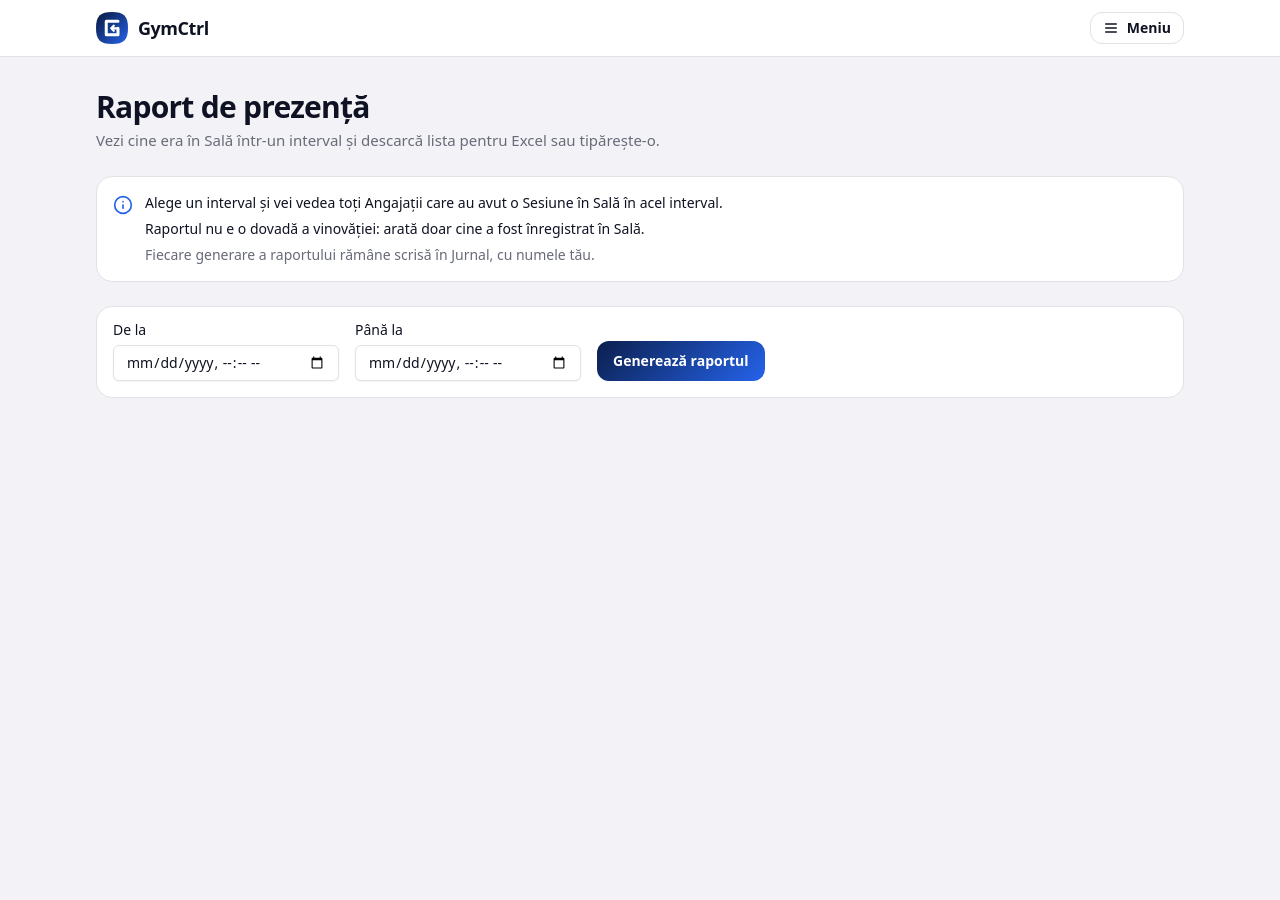
Test: ecranul Rapoarte › afișează un mesaj pentru interval fără Sesiuni
Type "2026-01-05T10:00" into the field labelled "De la". click: (226, 362)
box: [113, 344, 339, 380]
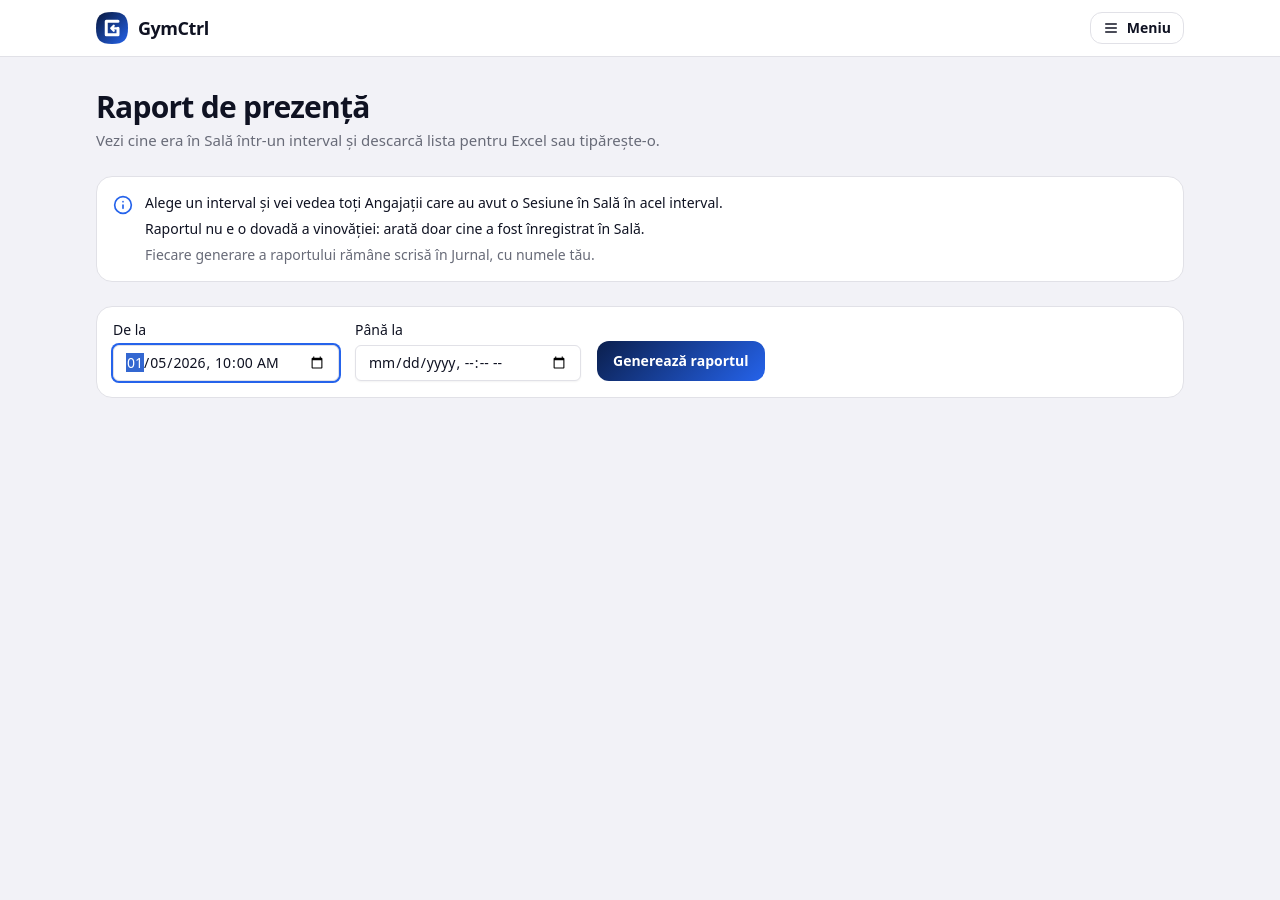
Type "2026-01-05T12:00" into the field labelled "Până la". click: (468, 362)
box: [355, 344, 581, 380]
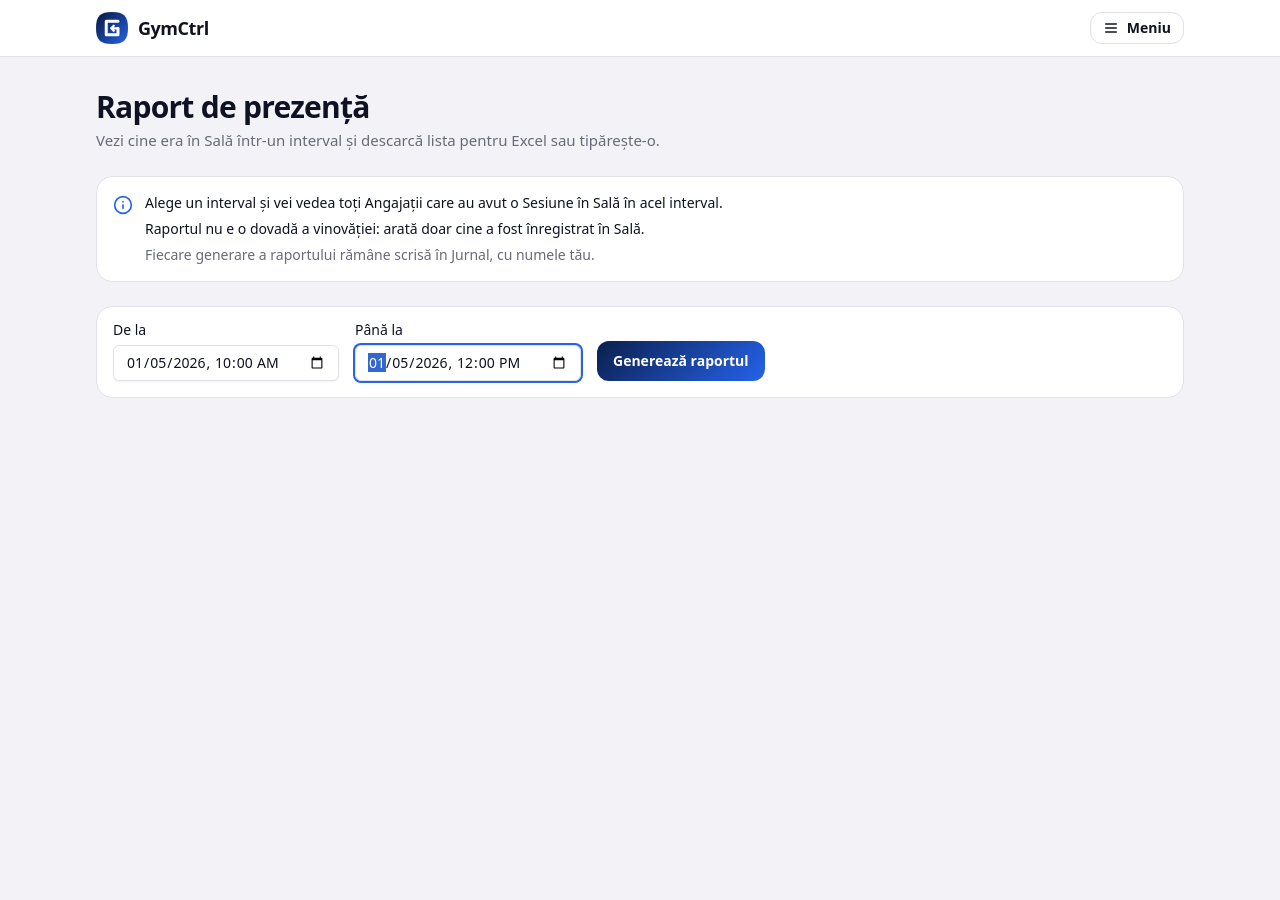
Click the button "Generează raportul". click: (681, 360)
box: [597, 340, 765, 380]
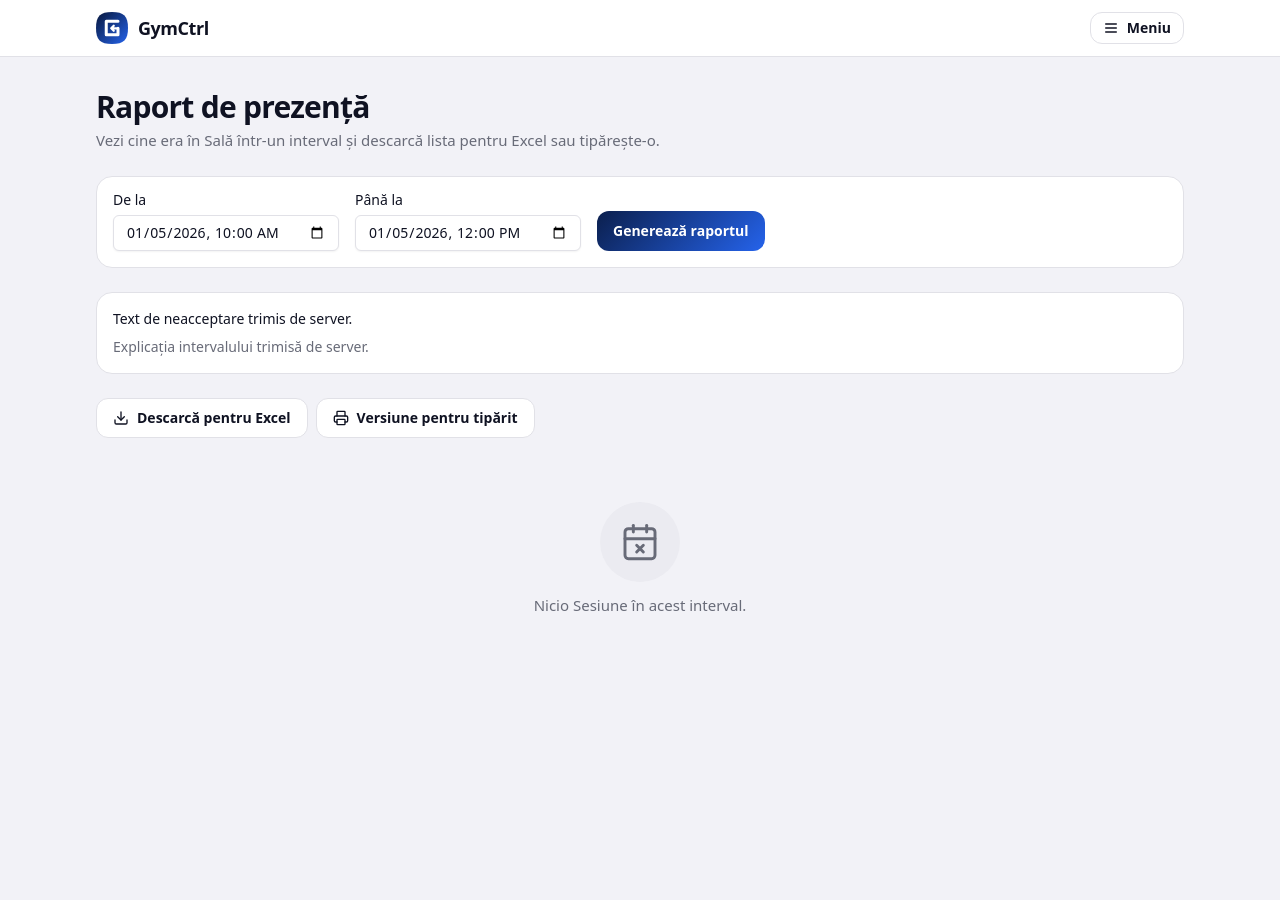
Result: the text "Nicio Sesiune în acest interval." is shown at [534, 594, 746, 616]
